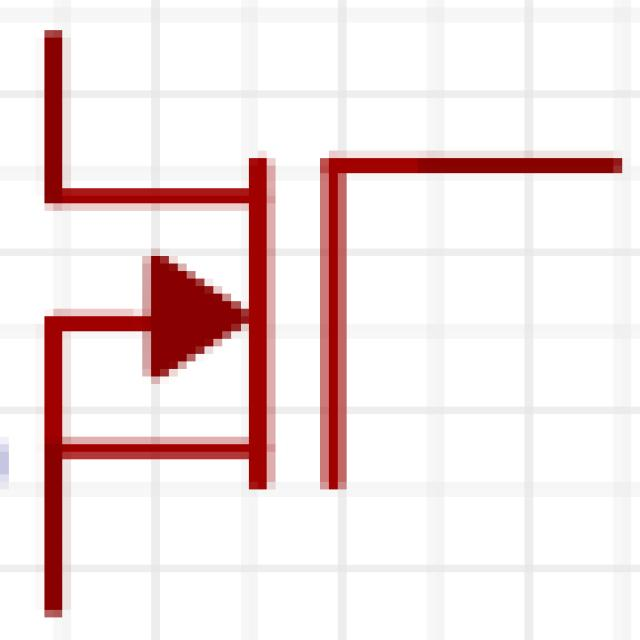nmos: (15, 26, 636, 591)
